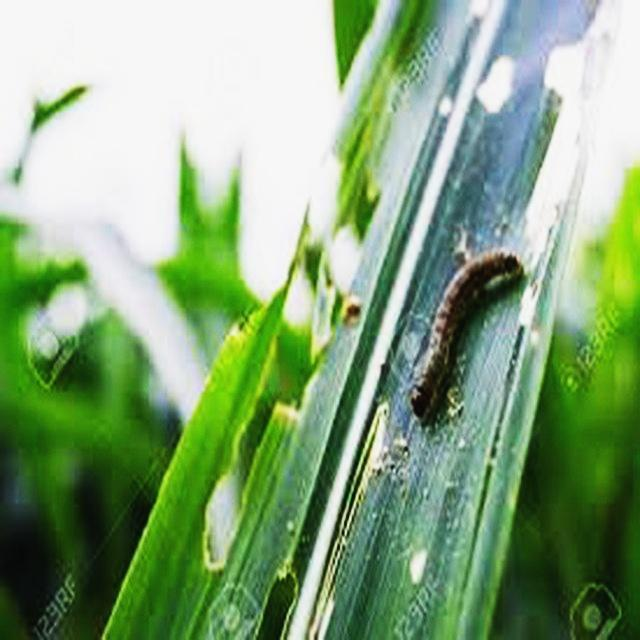gusano_cogollero: (406, 242, 530, 423)
